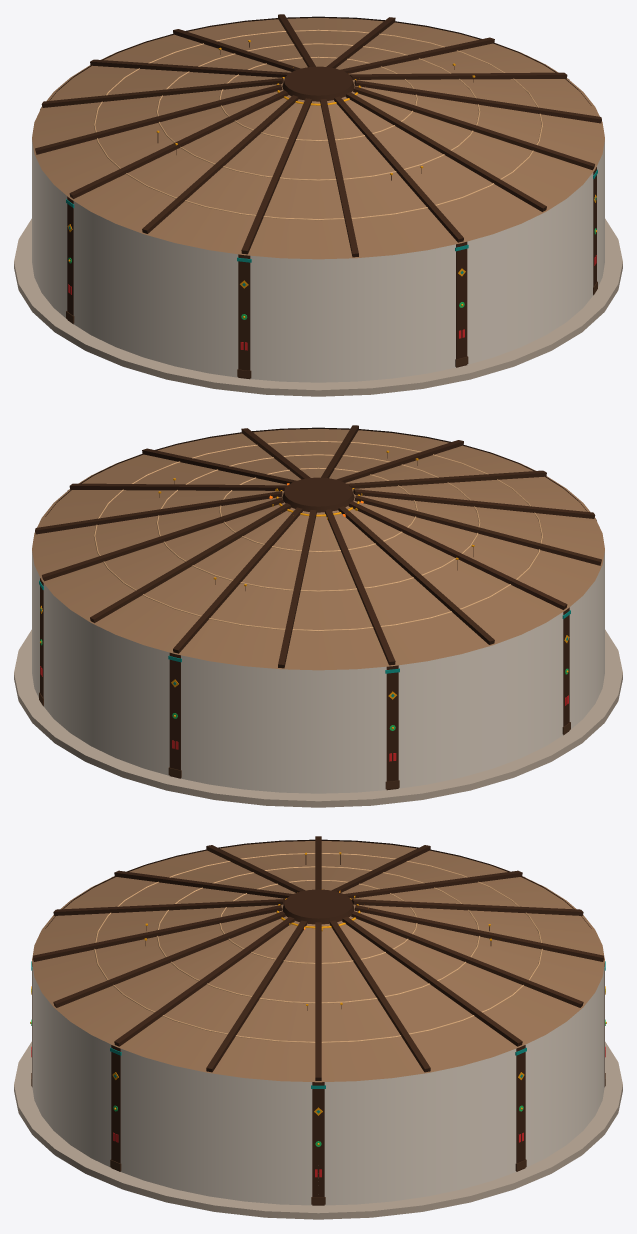
File: museo_wixarika_v13.glb
3 renders of one model, top to bottom at view 1: azimuth 30°, elevation 25°; view 2: azimuth 150°, elevation 25°; view 3: azimuth 270°, elevation 25°, orthographic.
Parts seen in each view (by area): view 1: superficie_domo_conico, muro_cilindrico, suelo_principal, anillo_oculo, viga_radial_3, viga_radial_12, viga_radial_13, viga_radial_2, viga_radial_4, estela_pilastra_8, viga_radial_11, aro_otate_techo_1 (+14 smaller); view 2: superficie_domo_conico, muro_cilindrico, suelo_principal, anillo_oculo, viga_radial_7, viga_radial_14, viga_radial_13, viga_radial_8, viga_radial_6, estela_pilastra_6, viga_radial_15, aro_otate_techo_1 (+14 smaller); view 3: superficie_domo_conico, muro_cilindrico, suelo_principal, anillo_oculo, viga_radial_2, viga_radial_8, viga_radial_1, viga_radial_9, viga_radial_7, viga_radial_3, estela_pilastra_3, aro_otate_techo_1 (+14 smaller).
Part boxes in pixels (x1,y1,x2,y2): superficie_domo_conico: [32, 18, 604, 259]; muro_cilindrico: [32, 140, 604, 382]; suelo_principal: [14, 218, 622, 396]; anillo_oculo: [282, 66, 354, 101]; viga_radial_3: [353, 86, 594, 170]; viga_radial_12: [35, 84, 282, 154]; viga_radial_13: [69, 90, 288, 198]; viga_radial_2: [345, 92, 546, 211]; viga_radial_4: [354, 80, 601, 123]; estela_pilastra_8: [237, 254, 251, 379]; viga_radial_11: [41, 78, 283, 107]; aro_otate_techo_1: [93, 29, 543, 220]; superficie_domo_conico: [32, 429, 604, 670]; muro_cilindrico: [32, 551, 604, 793]; suelo_principal: [14, 629, 622, 807]; anillo_oculo: [282, 477, 354, 512]; viga_radial_7: [42, 497, 283, 581]; viga_radial_14: [354, 495, 601, 565]; viga_radial_13: [348, 501, 567, 609]; viga_radial_8: [90, 503, 291, 622]; viga_radial_6: [35, 491, 282, 534]; estela_pilastra_6: [385, 665, 399, 790]; viga_radial_15: [353, 489, 595, 518]; aro_otate_techo_1: [93, 440, 543, 631]; superficie_domo_conico: [32, 841, 604, 1082]; muro_cilindrico: [32, 965, 604, 1205]; suelo_principal: [14, 1041, 622, 1219]; anillo_oculo: [282, 889, 354, 924]; viga_radial_2: [53, 911, 285, 1007]; viga_radial_8: [351, 911, 583, 1007]; viga_radial_1: [33, 905, 281, 961]; viga_radial_9: [355, 905, 603, 961]; viga_radial_7: [342, 916, 522, 1046]; viga_radial_3: [114, 916, 294, 1046]; estela_pilastra_3: [311, 1082, 325, 1205]; aro_otate_techo_1: [94, 853, 542, 1042].
Bounding box in the file's own units: 17 × 5.76 × 17.
